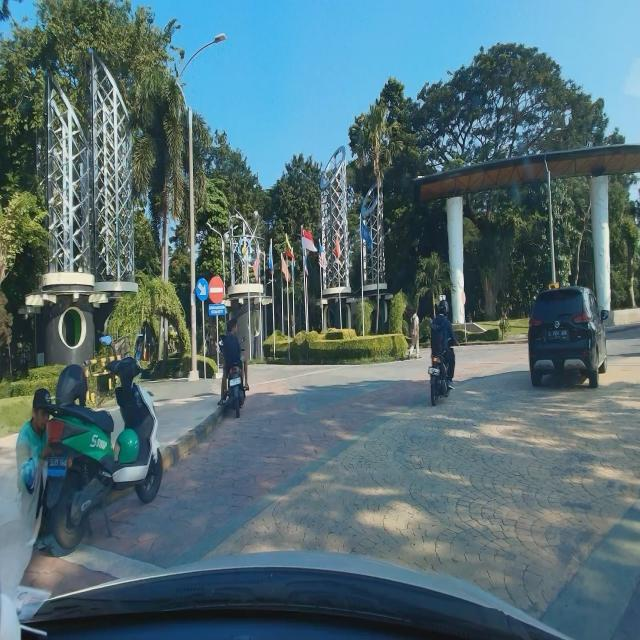car: (528, 282, 608, 391)
license-plate: (548, 329, 568, 340)
